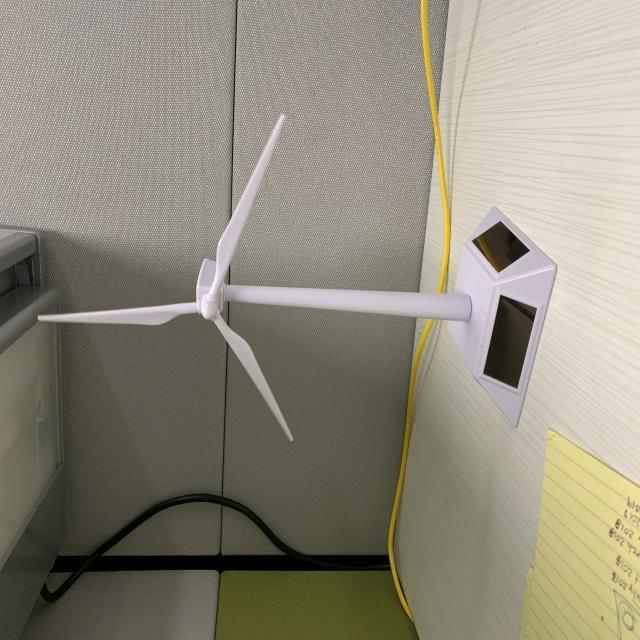solid-blade: (215, 114, 285, 286), (214, 315, 294, 441), (39, 302, 198, 324)
